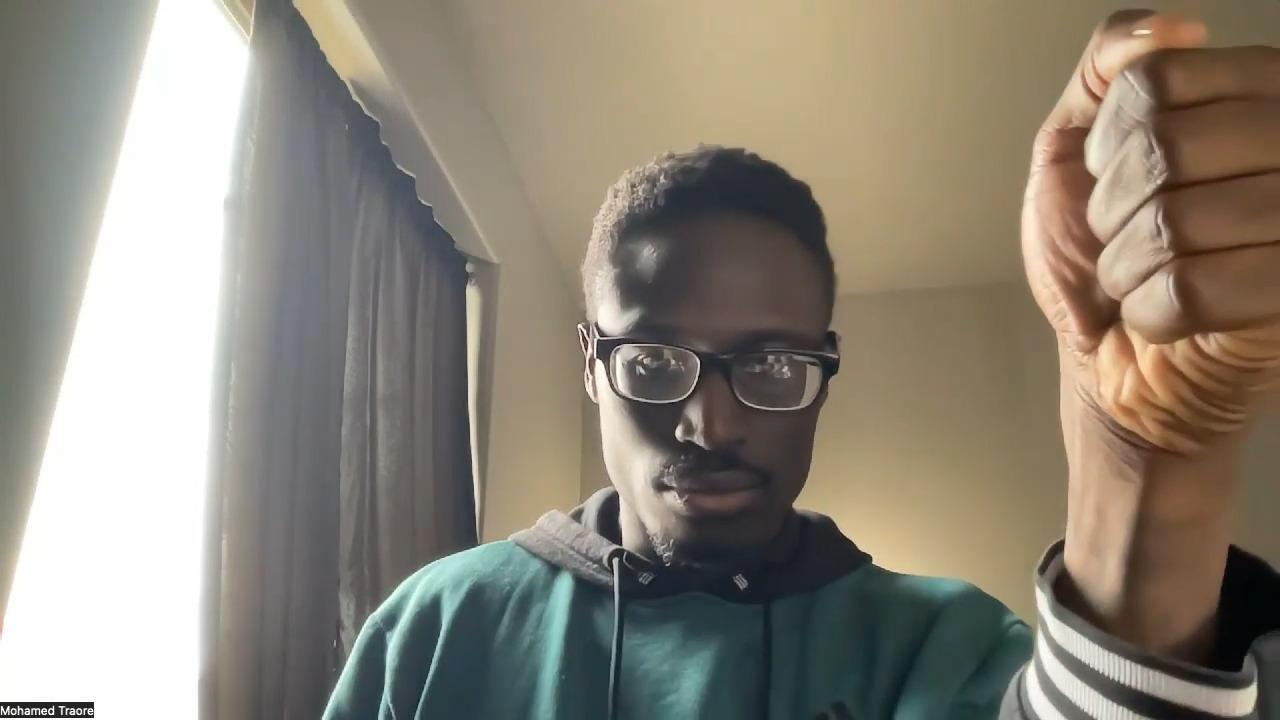Rock: (1018, 3, 1280, 455)
